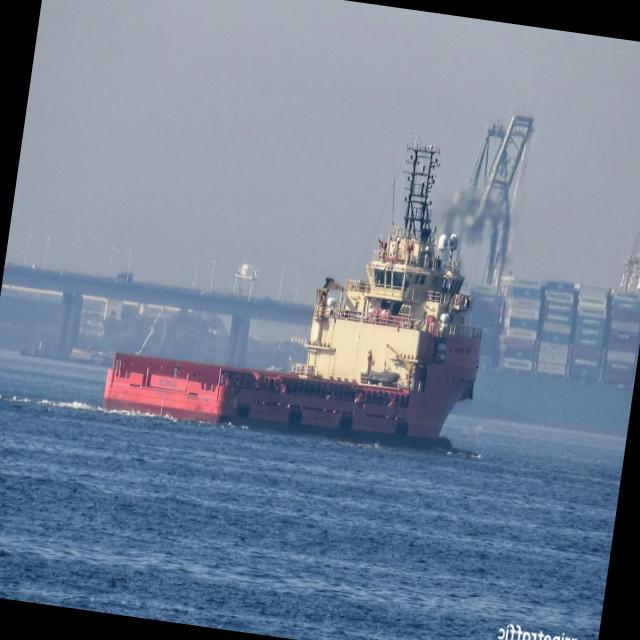Offshore: (104, 146, 482, 442)
